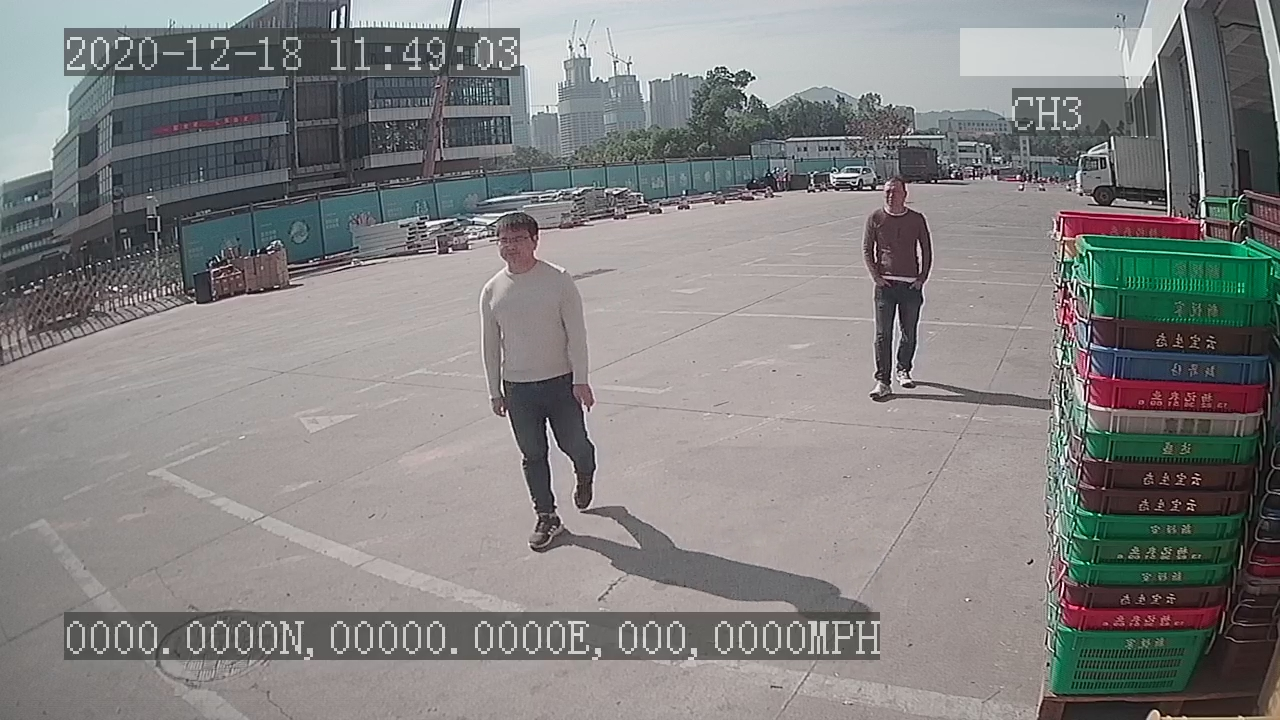person: (477, 208, 601, 558), (856, 172, 936, 404)
